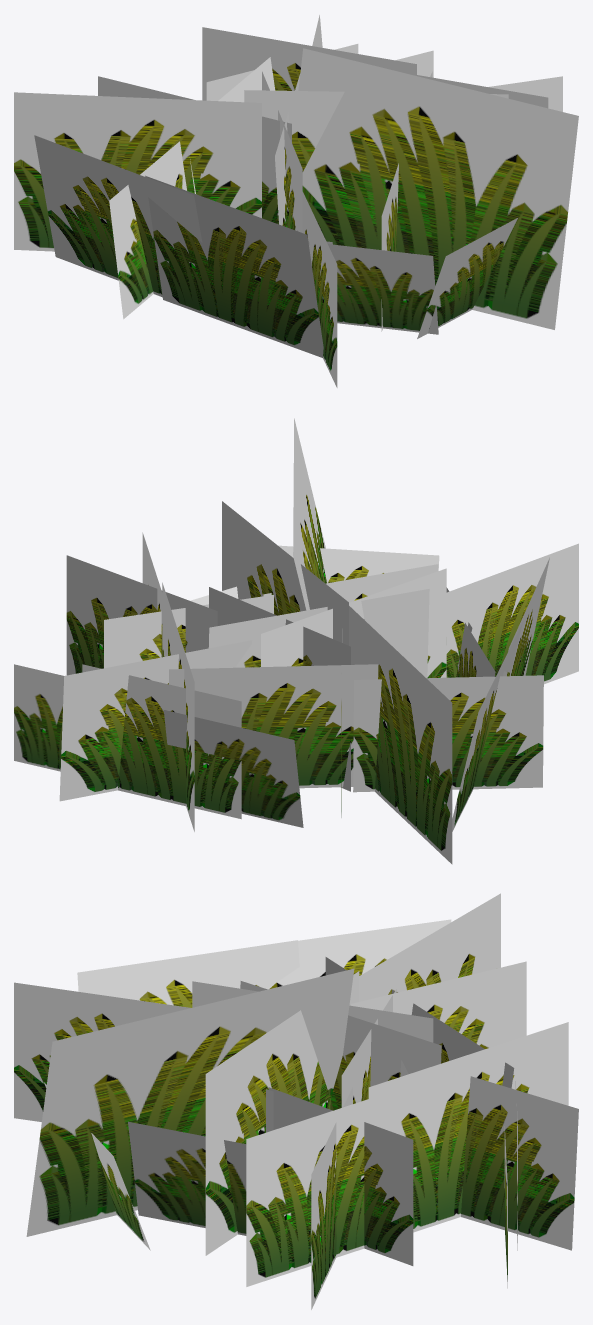
The model's file is high_grass_10.gltf.
3 renders of one model, top to bottom at view 1: azimuth 30°, elevation 25°; view 2: azimuth 150°, elevation 25°; view 3: azimuth 270°, elevation 25°, orthographic. The views are drawn at different scales.
Parts seen in each view (by area): view 1: default; view 2: default; view 3: default.
Part boxes in pixels (bbox=[...]): default: bbox=[14, 15, 578, 387]; default: bbox=[14, 418, 578, 864]; default: bbox=[14, 893, 578, 1309].
Size of the model in its own units: 1.91 by 0.7728 by 1.84.
Materials: 1 (1 with a texture image).
